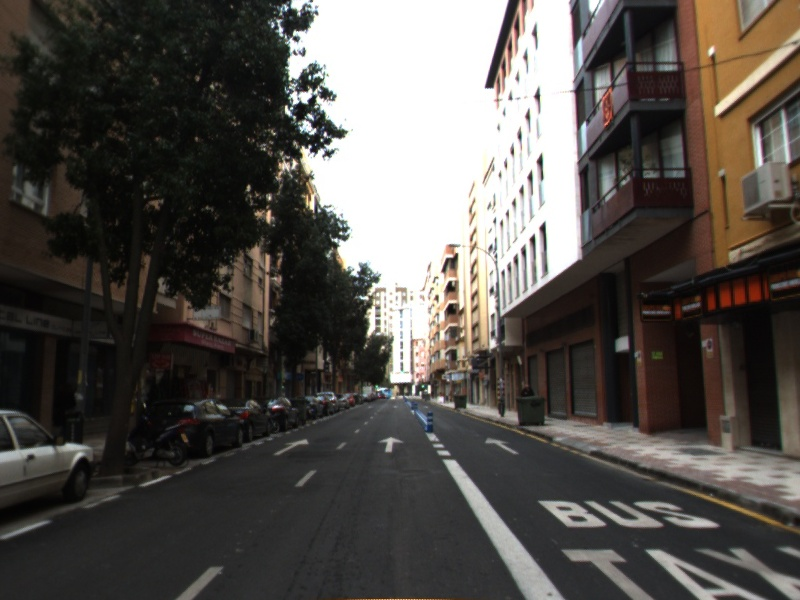STRAIGHT: (482, 435, 521, 457), (271, 437, 311, 457), (375, 435, 406, 454)
